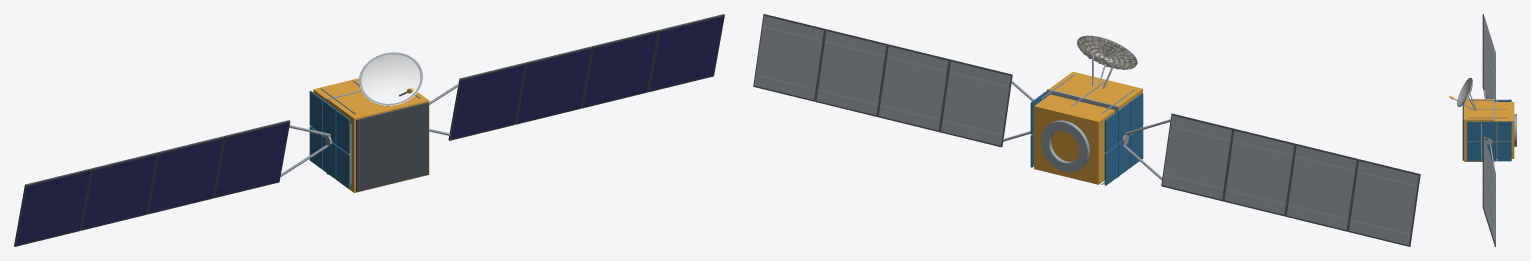
Rendered from nss-k.glb.
3 views of the same model, side by side, from view 1: azimuth 30°, elevation 25°; view 2: azimuth 150°, elevation 25°; view 3: azimuth 270°, elevation 25° (orthographic). The views are drawn at different scales.
Visible parts, largest first — view 1: Solar cell panel (×8), Earth-facing deck, Solar panel frame (×8), Radiator bay (×6), Reflector 1 face, Payload module, Service module, Reflector 1 edge; view 2: Rear array substrate (×8), Solar panel frame (×8), Service module, Radiator bay (×6), Payload module, Launch adapter ring, Reflector 1 insulated back, Module interface; view 3: Rear array substrate (×8), Radiator bay (×6), Payload module, Service module, Blanket closeout seam (×3), Reflector 1 face, Solar panel frame (×2), Earth-facing deck, Launch adapter ring, Reflector 1 edge, Module interface.
Boxes of the visible parts, x1,y1,x2,y2 form: Solar cell panel (×8): [16, 16, 723, 245]; Earth-facing deck: [356, 102, 428, 191]; Solar panel frame (×8): [14, 14, 724, 246]; Radiator bay (×6): [309, 91, 350, 189]; Reflector 1 face: [359, 52, 423, 105]; Payload module: [328, 91, 429, 192]; Service module: [313, 78, 360, 101]; Reflector 1 edge: [359, 52, 422, 105]; Rear array substrate (×8): [754, 16, 1418, 245]; Solar panel frame (×8): [753, 14, 1420, 246]; Service module: [1034, 94, 1114, 184]; Radiator bay (×6): [1104, 93, 1143, 185]; Payload module: [1049, 71, 1142, 126]; Launch adapter ring: [1040, 120, 1089, 172]; Reflector 1 insulated back: [1077, 36, 1136, 69]; Module interface: [1047, 89, 1119, 177]; Rear array substrate (×8): [1484, 16, 1495, 245]; Radiator bay (×6): [1467, 121, 1511, 161]; Payload module: [1464, 99, 1493, 161]; Service module: [1494, 102, 1514, 158]; Blanket closeout seam (×3): [1468, 99, 1507, 118]; Reflector 1 face: [1457, 77, 1471, 106]; Solar panel frame (×2): [1482, 69, 1495, 246]; Earth-facing deck: [1462, 104, 1463, 160]; Launch adapter ring: [1514, 114, 1516, 146]; Reflector 1 edge: [1457, 78, 1472, 106]; Module interface: [1493, 98, 1494, 162].
Bounding box in the file's own units: 21.48 × 3.72 × 3.18.
10 materials, 2 textured.
